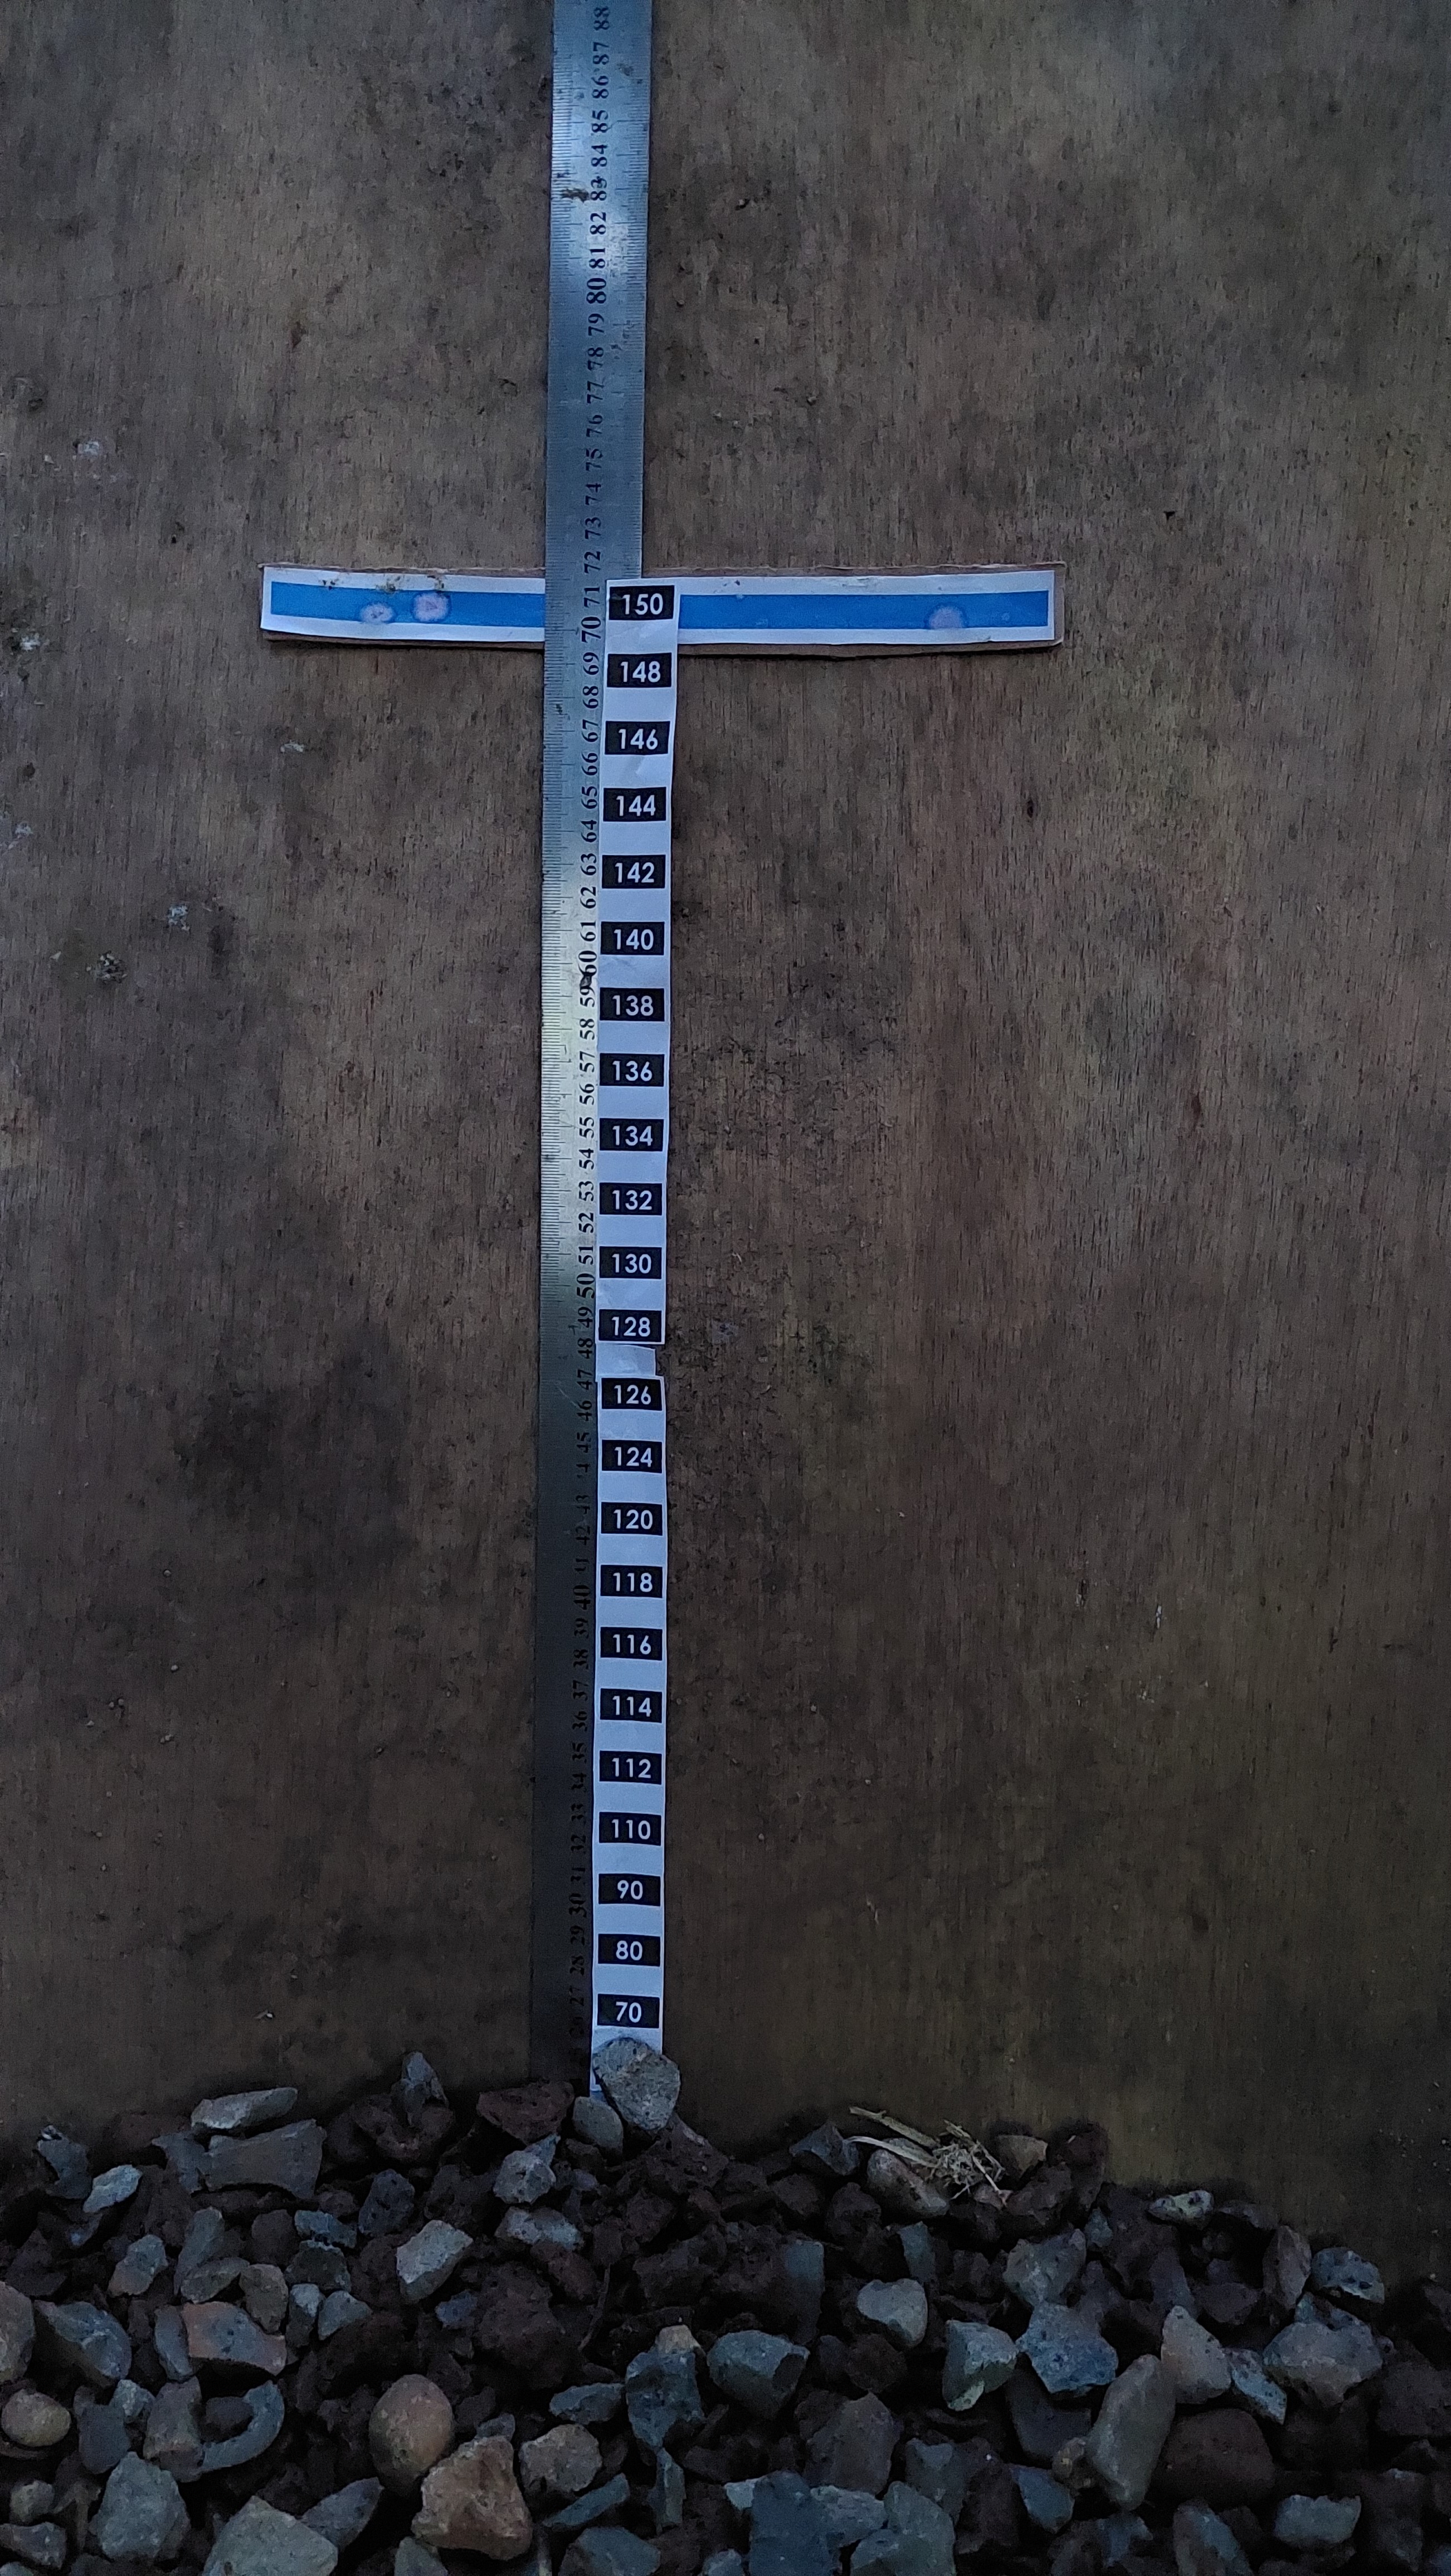kotak_2x1: (600, 1051, 665, 1090), (600, 1562, 665, 1601), (607, 720, 671, 759), (600, 918, 664, 957), (598, 1748, 662, 1787), (596, 1930, 660, 1969), (603, 853, 667, 890), (600, 1500, 664, 1537), (600, 1626, 664, 1663), (598, 1686, 662, 1723), (598, 1116, 664, 1152), (598, 1375, 664, 1410), (596, 1812, 662, 1847), (598, 1246, 665, 1279), (600, 1182, 664, 1217), (600, 1307, 664, 1343), (600, 1438, 664, 1474), (596, 1872, 660, 1907), (610, 587, 676, 621), (607, 653, 672, 686), (602, 787, 667, 821), (602, 987, 665, 1021), (598, 1994, 660, 2028)
